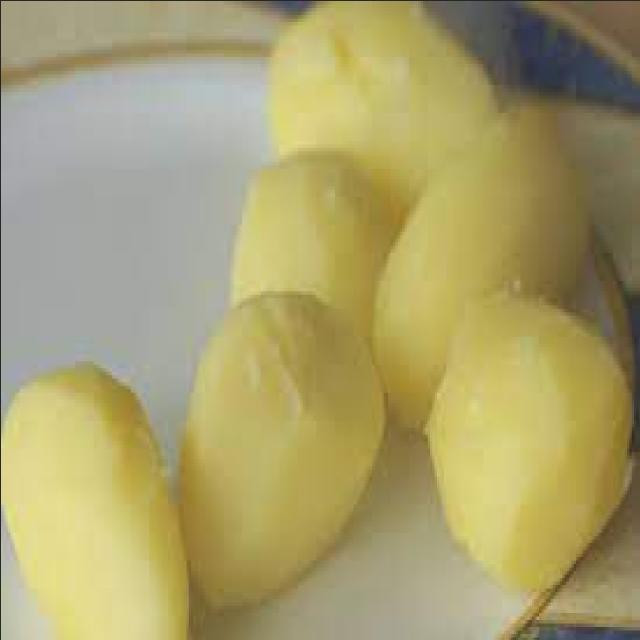kentang rebus: (227, 0, 501, 346), (371, 105, 591, 430), (174, 290, 387, 623), (422, 290, 633, 598), (0, 364, 188, 640)
